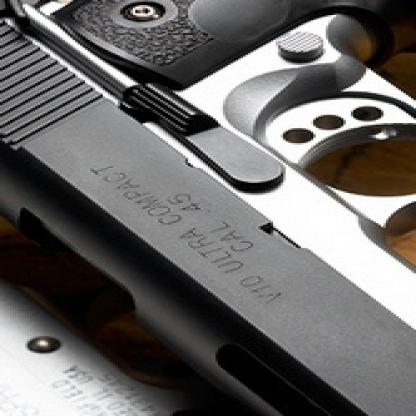gun: (0, 0, 414, 415), (0, 162, 414, 415)
